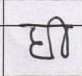i_matra: (51, 15, 71, 58)
